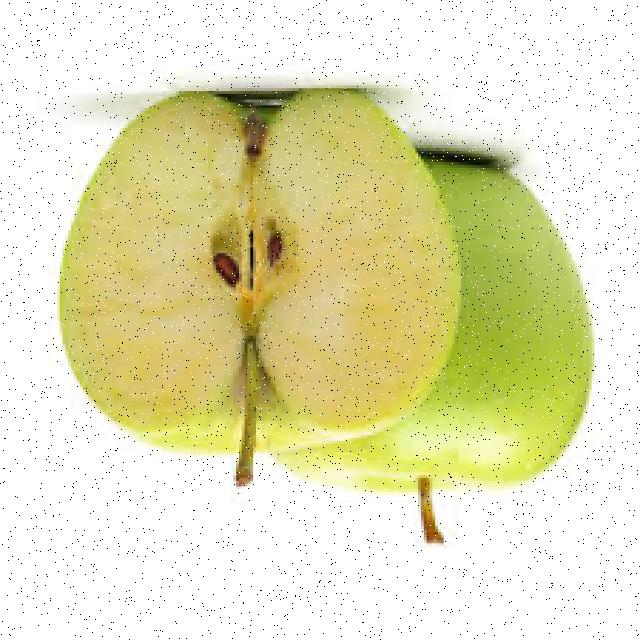Apple: (58, 94, 449, 449), (276, 140, 598, 488)
